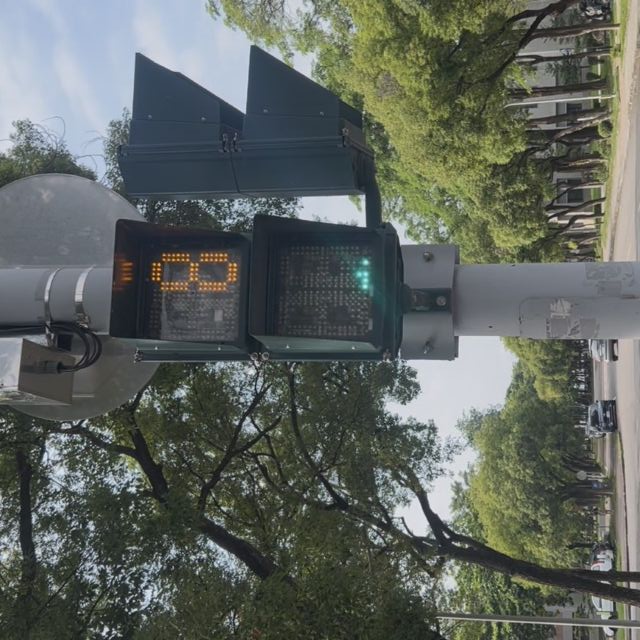green_light: (113, 220, 400, 363)
